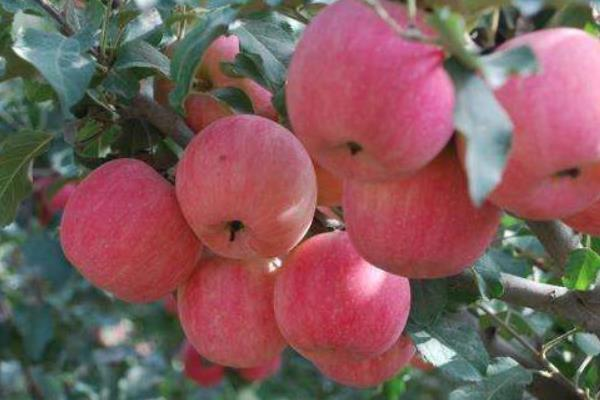apple: (285, 1, 458, 182), (455, 25, 600, 220), (337, 145, 504, 277), (55, 157, 202, 304), (174, 114, 316, 258), (273, 230, 414, 363), (177, 250, 288, 370)
